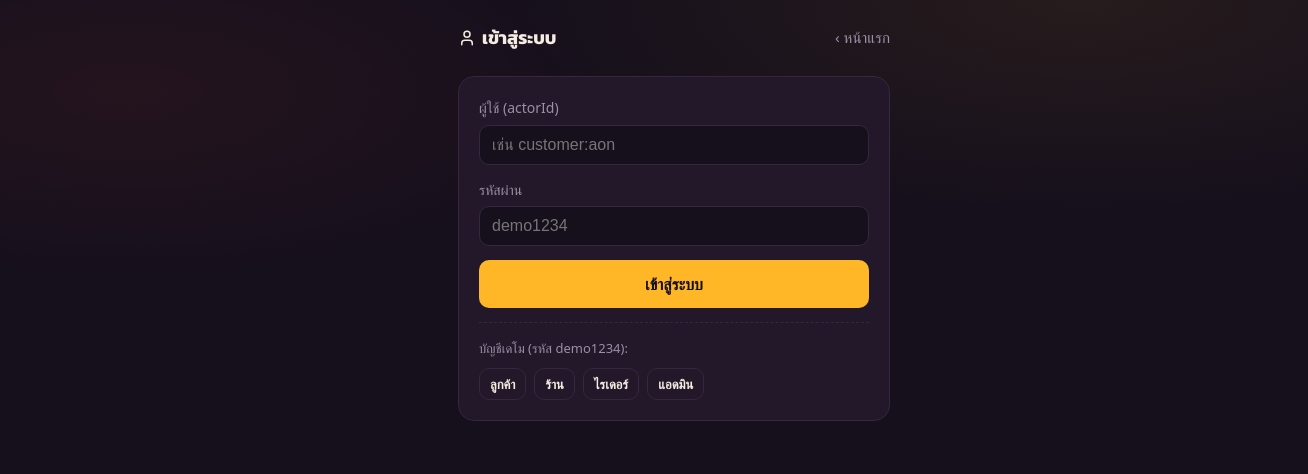
Test: auth ฝั่ง web (Lucia session) › หน้า Login: รหัสผิด → โชว์ error ไม่ทำให้ล่ม
This screenshot has width=1308, height=474.
Type "customer:aon" into the field with test id "login-actor".
click(674, 145); type("customer:aon")  # box [479,125,869,165]
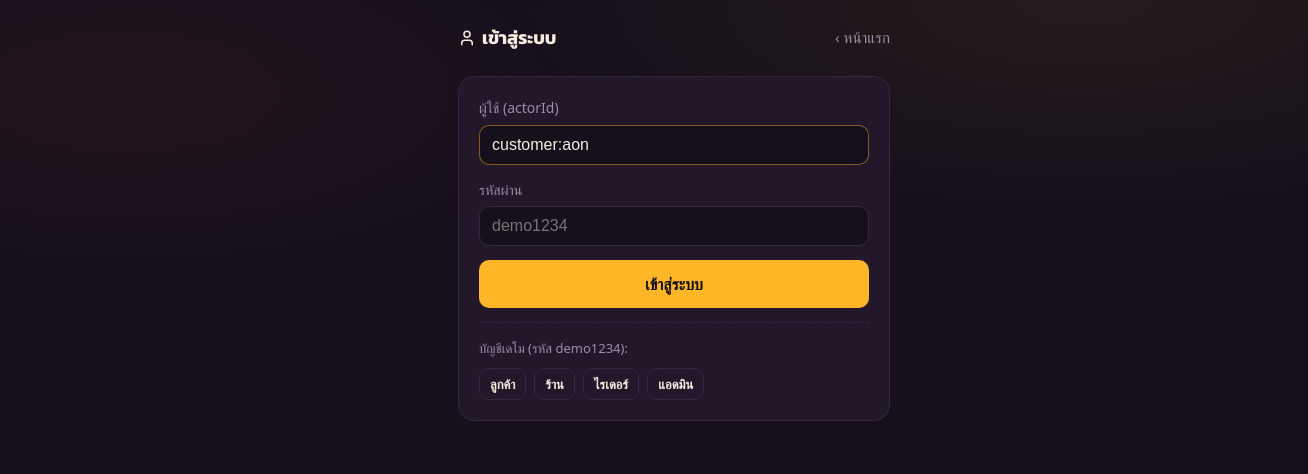
Type "wrong" into the password field with test id "login-password".
click(674, 226); type("wrong")  # box [479,206,869,246]
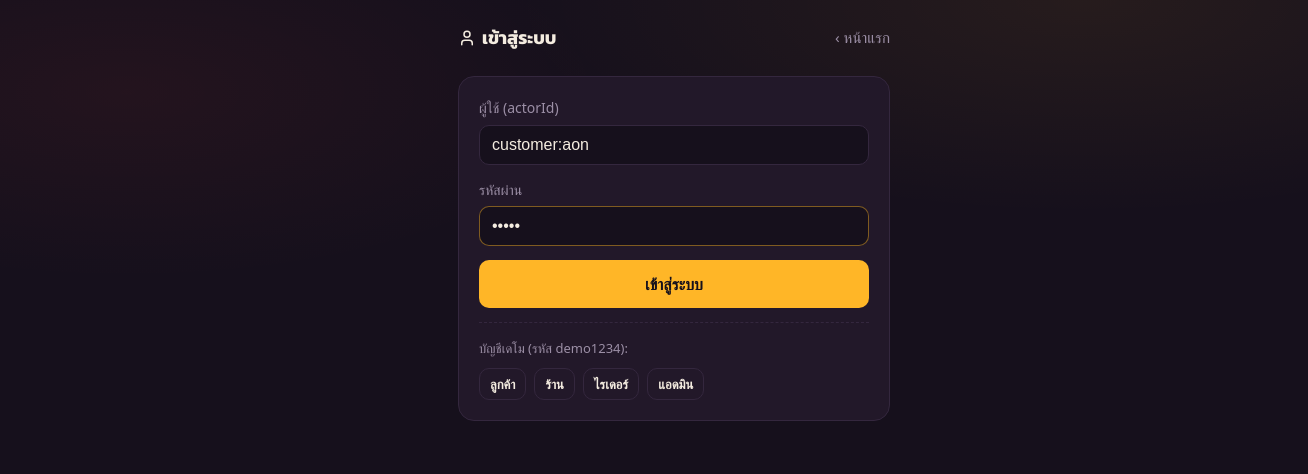
Click the button with test id "login-submit".
click(674, 284)  # box [479,260,869,308]
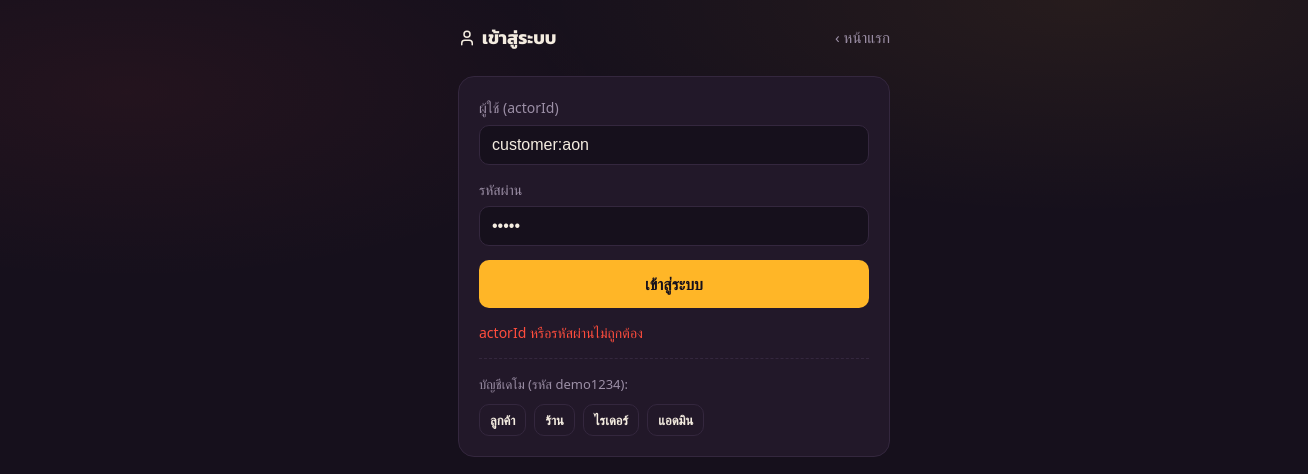
Check: the text with test id "login-error" shows "ไม่ถูกต้อง", box [479,323,643,342]
